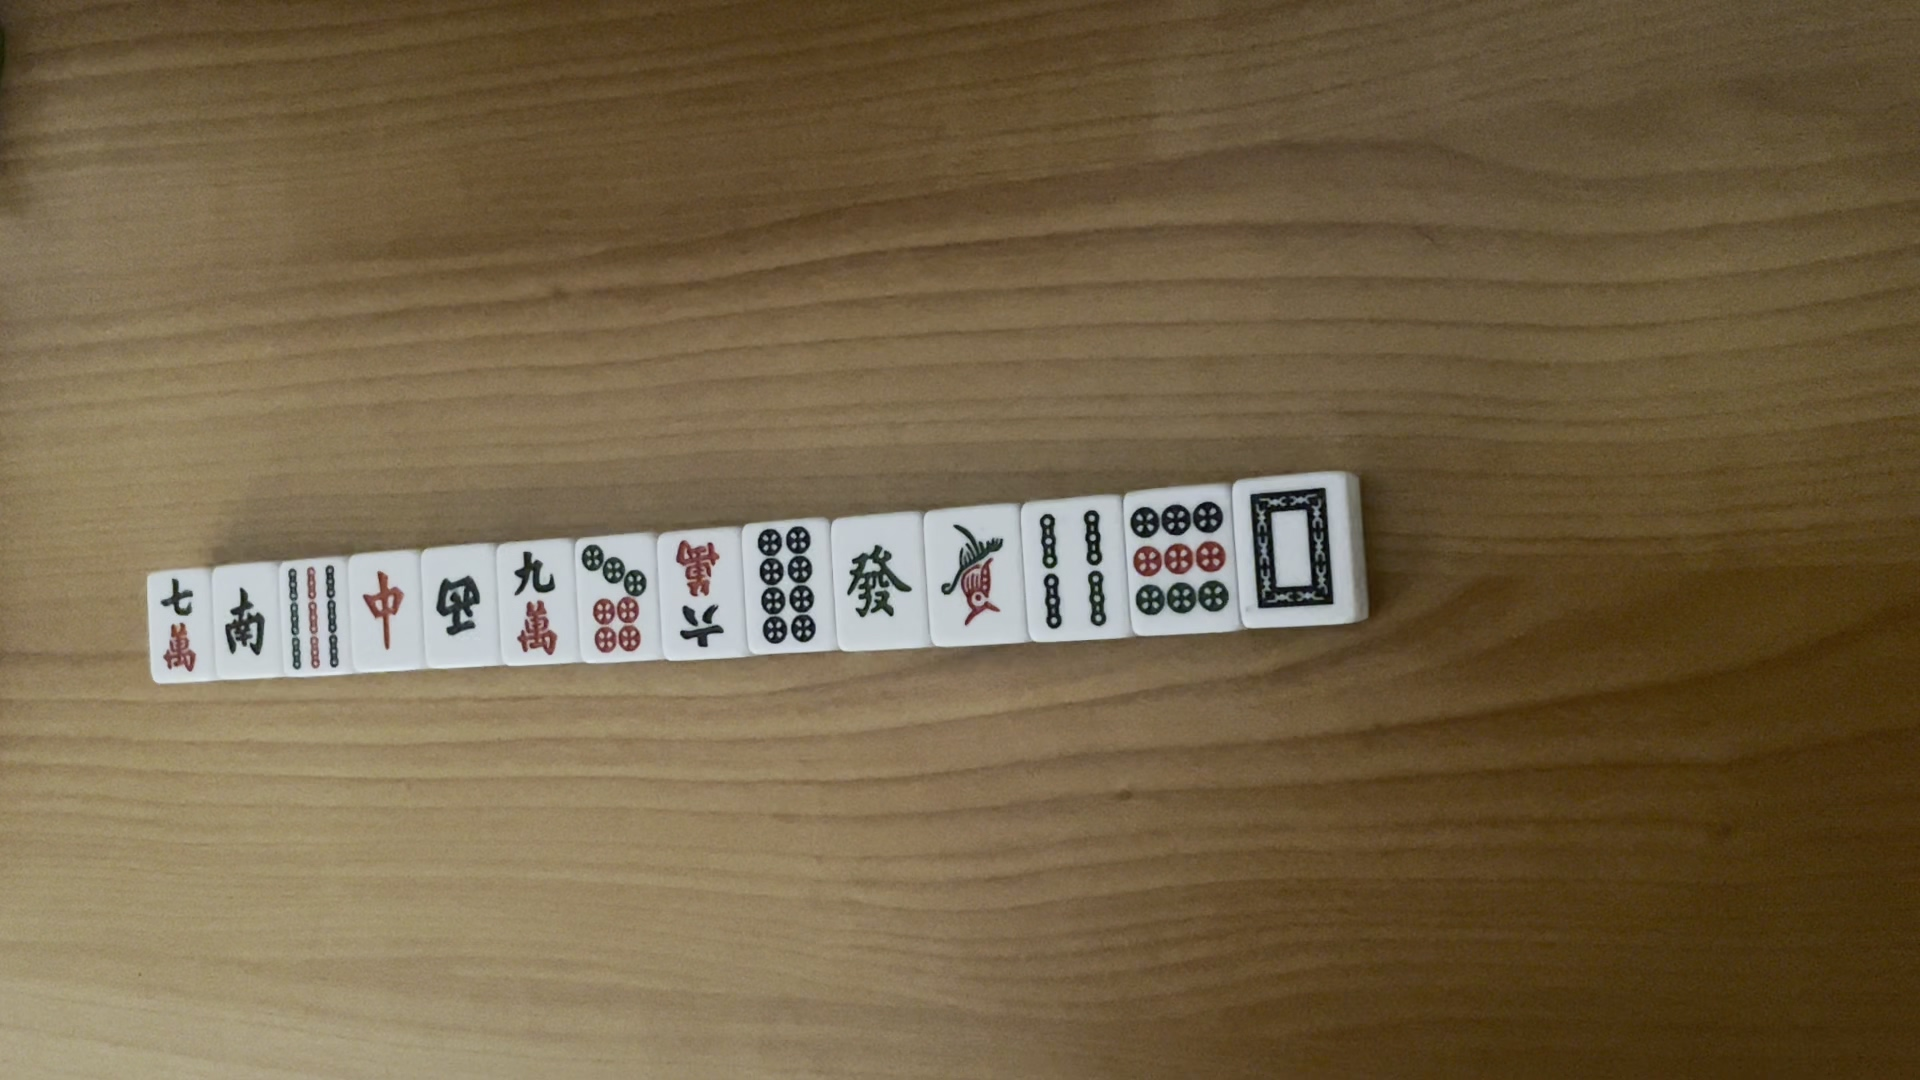b-1: (923, 517, 1006, 624)
b-4: (1031, 504, 1118, 633)
b-9: (287, 556, 344, 673)
c-6: (671, 531, 738, 659)
c-7: (152, 576, 204, 682)
c-9: (506, 541, 570, 654)
d-7: (576, 538, 651, 655)
d-8: (752, 524, 816, 644)
d-9: (1129, 496, 1236, 630)
honors-green: (836, 534, 913, 634)
honors-red: (360, 566, 415, 659)
honors-south: (216, 585, 274, 662)
honors-west: (429, 568, 487, 650)
honors-white: (1241, 469, 1345, 624)
